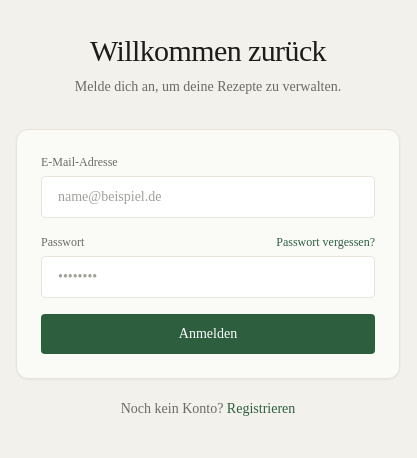
Test: LoginForm (login page) › shows the wrong-password message on 'Invalid login credentials'
This screenshot has width=417, height=458.
Step 1. Type "u@example.com" into the field labelled "E-Mail-Adresse" → (208,197), box [41,176,375,218]
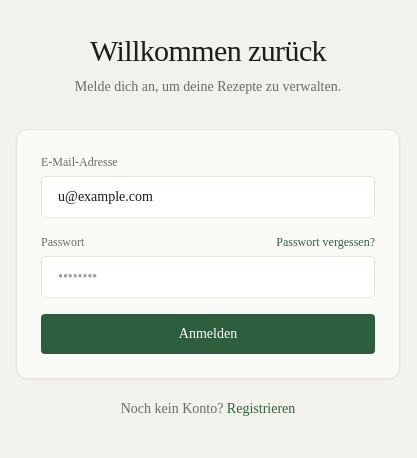
Step 2. Type "secret123" into the password field labelled "Passwort" → (208,277), box [41,256,375,298]
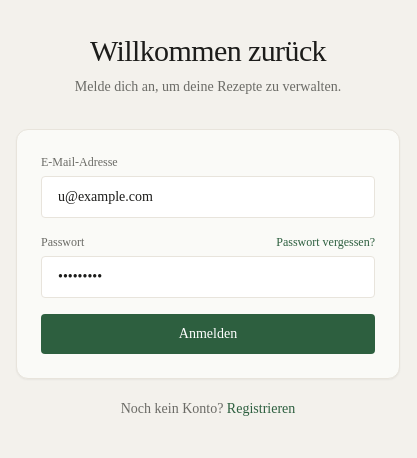
Step 3. Click the button "Anmelden" → (208,334), box [41,314,375,354]
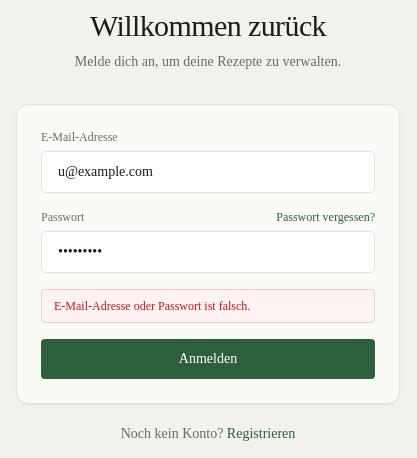
Expected: the message reads "E-Mail-Adresse oder Passwort ist falsch.", [54,299,250,313]
